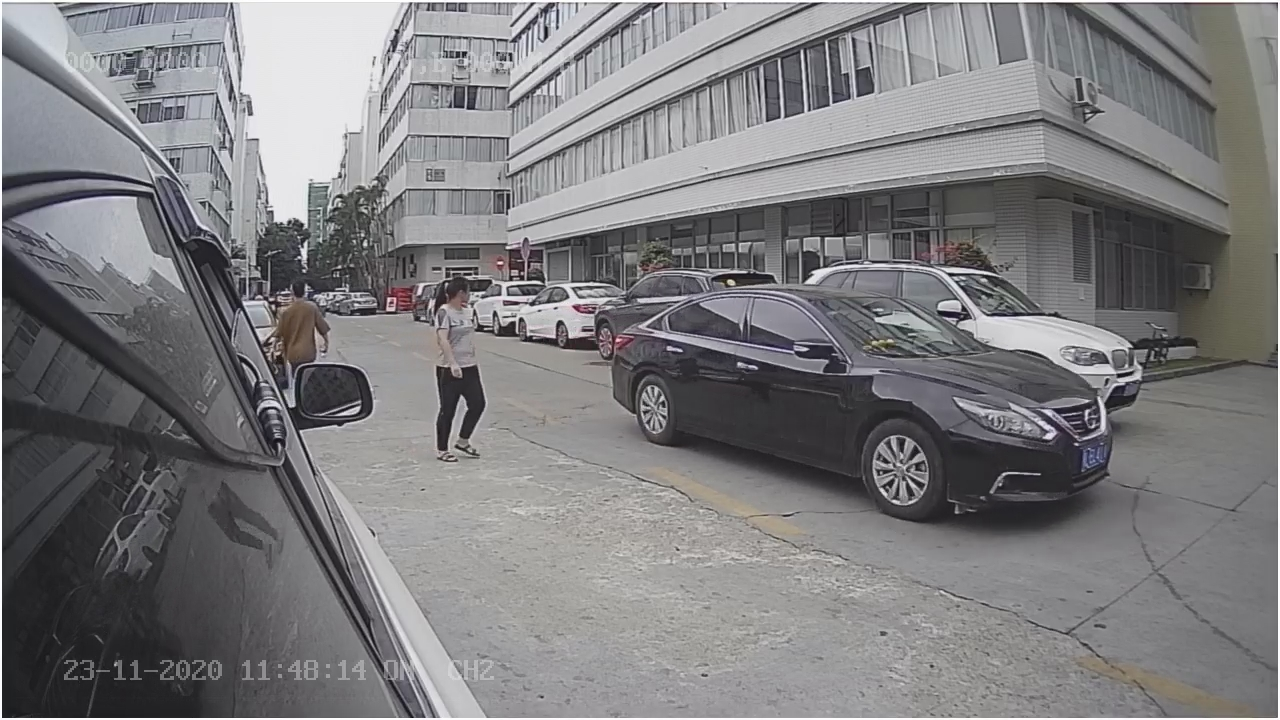person: (429, 267, 492, 468)
